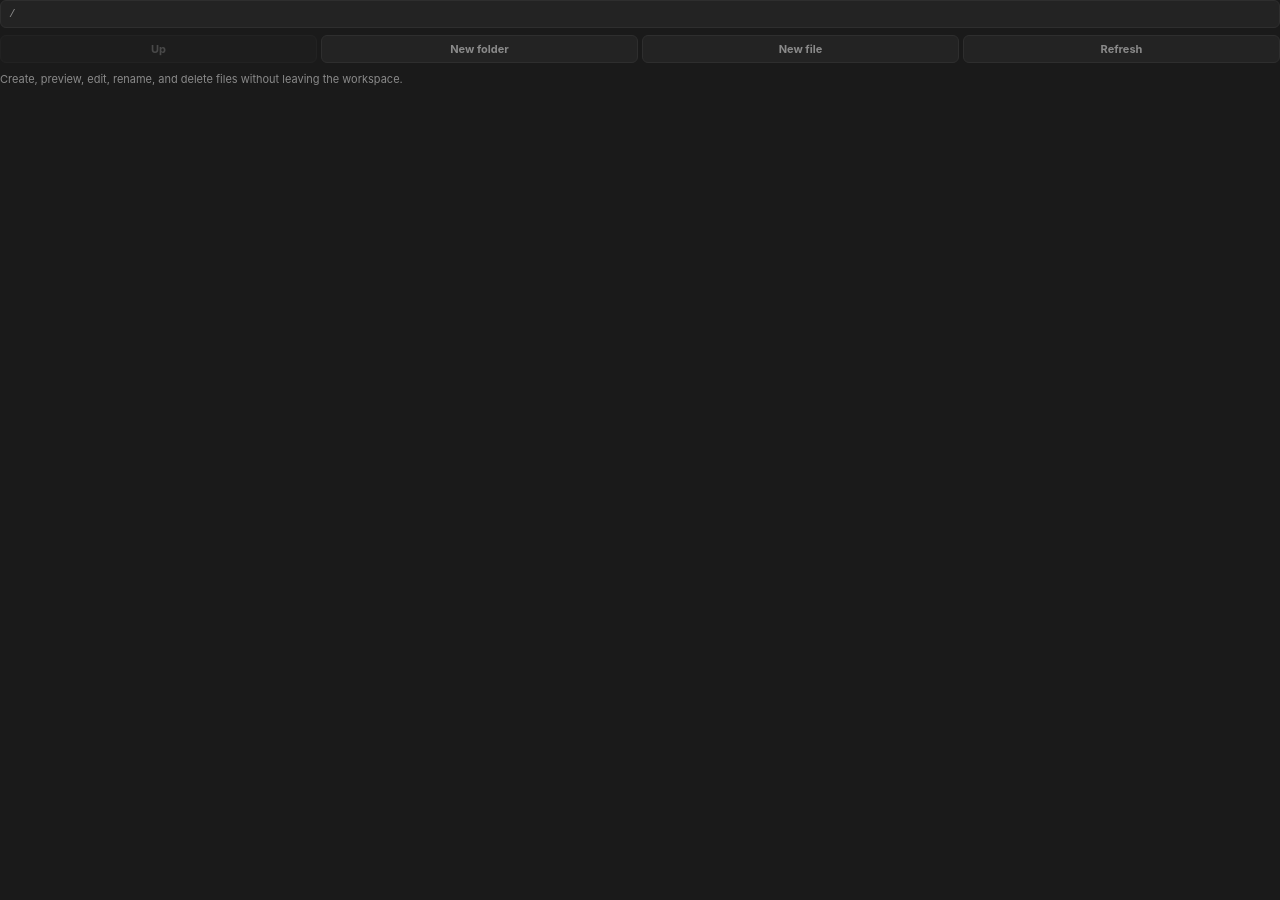
Test: WorkspaceFilePanel - Folder Operations Unit Tests › Folder creation prompts for name (Requirement 2.1) › should create folder when user provides valid name
The width and height of the screenshot is (1280, 900).
Click the button "New folder".
click(480, 49)  # box [321,35,638,63]
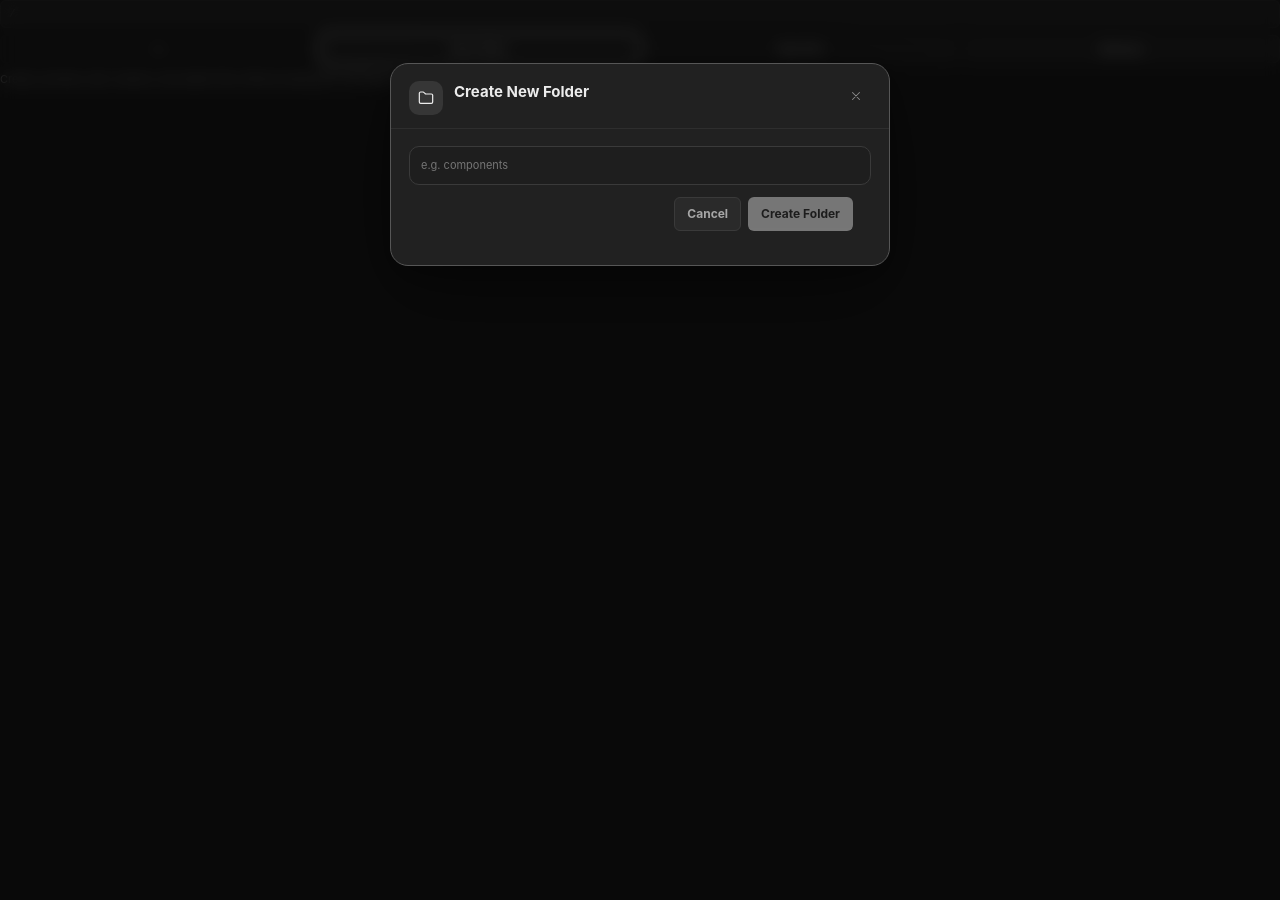
Type "my-new-folder" into the field.
click(640, 166); type("my-new-folder")  # box [409,146,871,185]
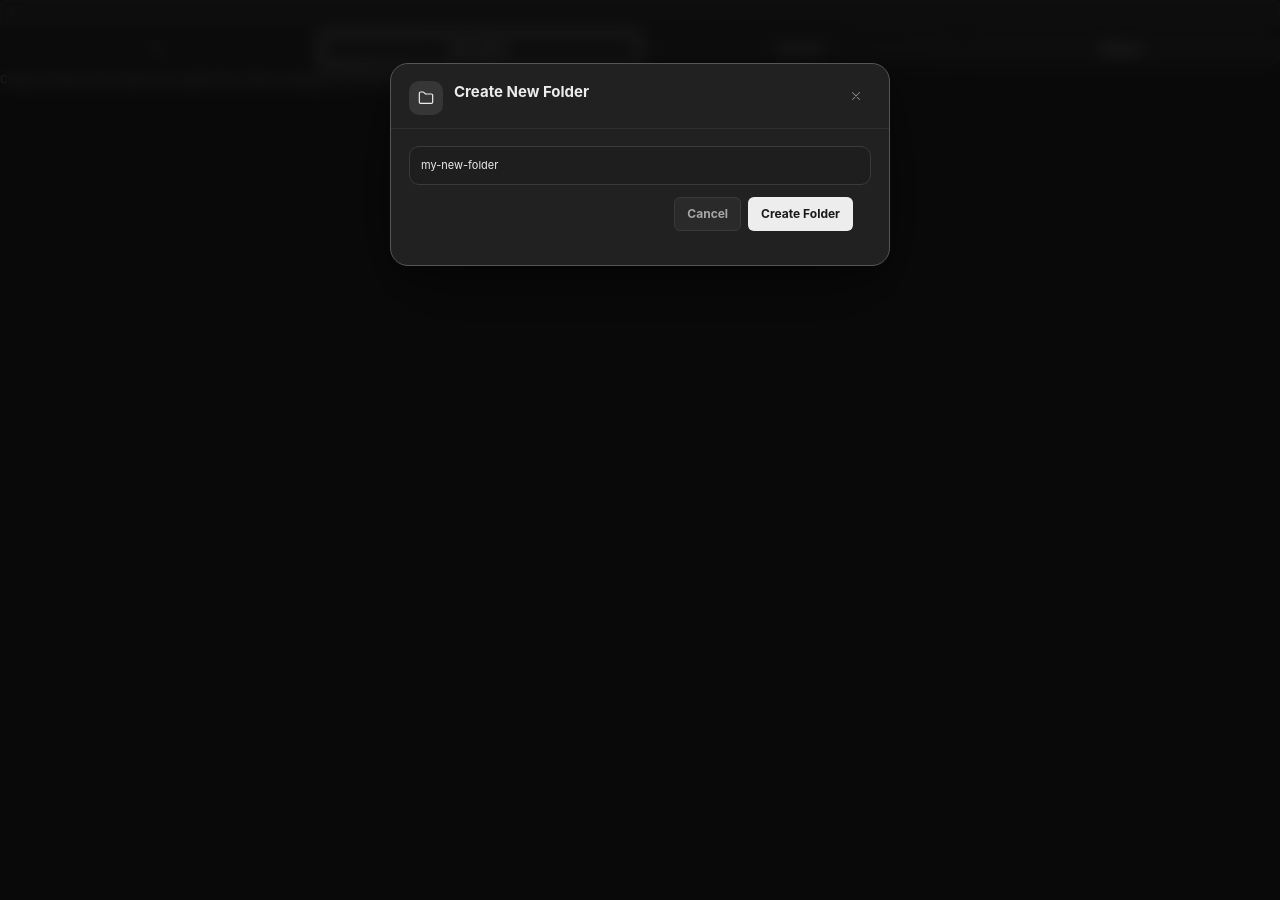
Click the button "Create Folder".
click(801, 214)  # box [748,197,853,231]
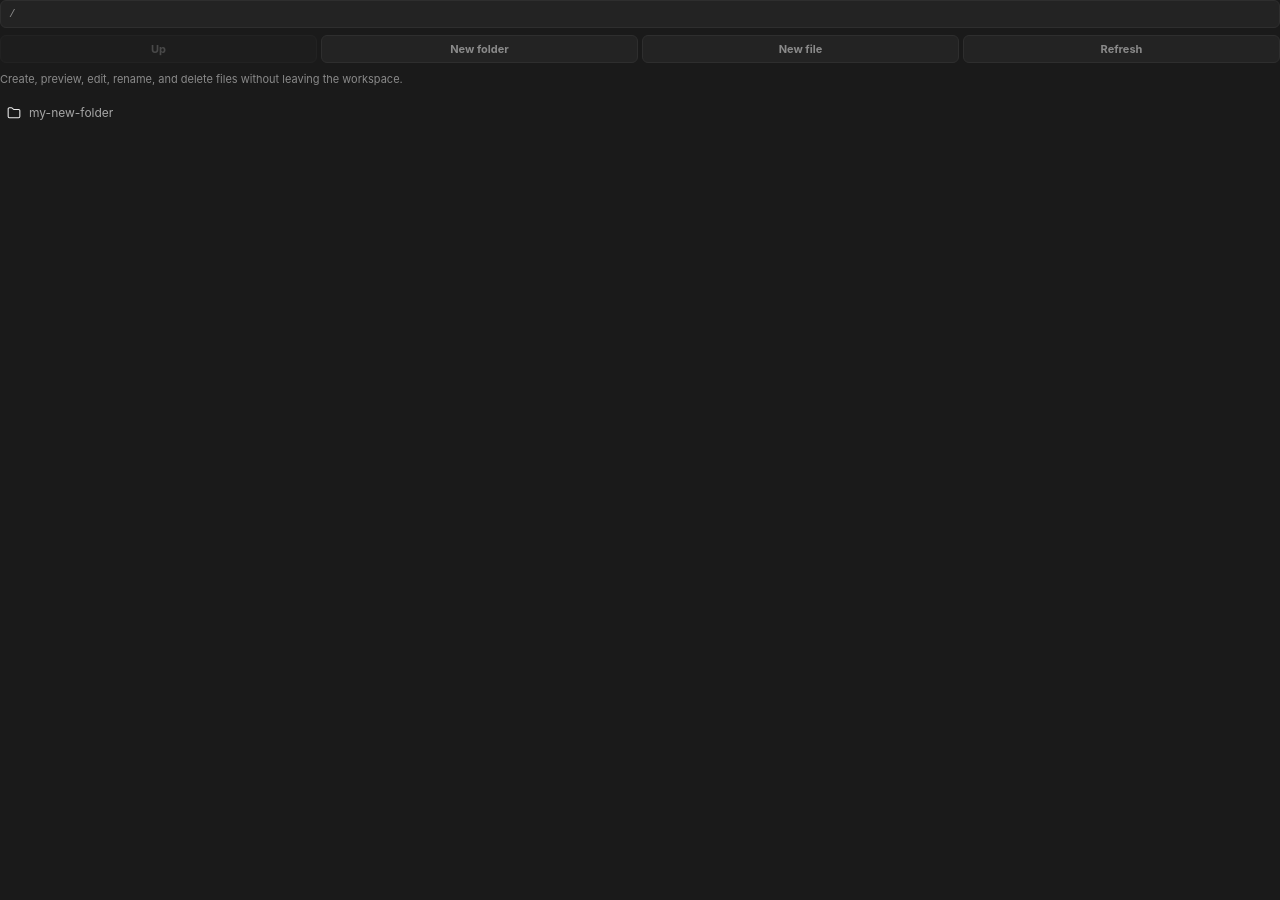
Check: the text "my-new-folder" is shown, box [29,105,113,120]
